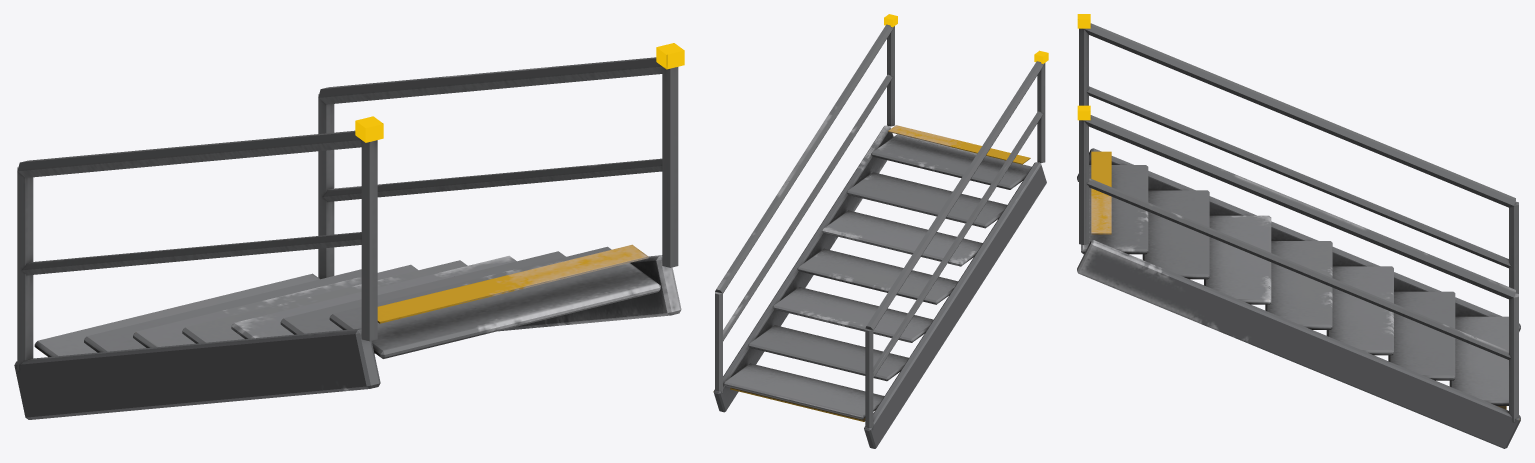
File: nodexeus-set-stair-1.glb
The picture shows the model from 3 angles, left to right: view 1: azimuth 30°, elevation 25°; view 2: azimuth 150°, elevation 25°; view 3: azimuth 270°, elevation 25°; orthographic projection. The views are drawn at different scales.
Parts seen in each view (by area): view 1: set-stair-1; view 2: set-stair-1; view 3: set-stair-1.
Part boxes in pixels (x1,y1,x2,y2): set-stair-1: [14, 43, 684, 419]; set-stair-1: [713, 14, 1048, 448]; set-stair-1: [1077, 14, 1520, 448].
Bounding box in the file's own units: 1.59 × 2.59 × 3.07.
Materials: 1 (1 with a texture image).
